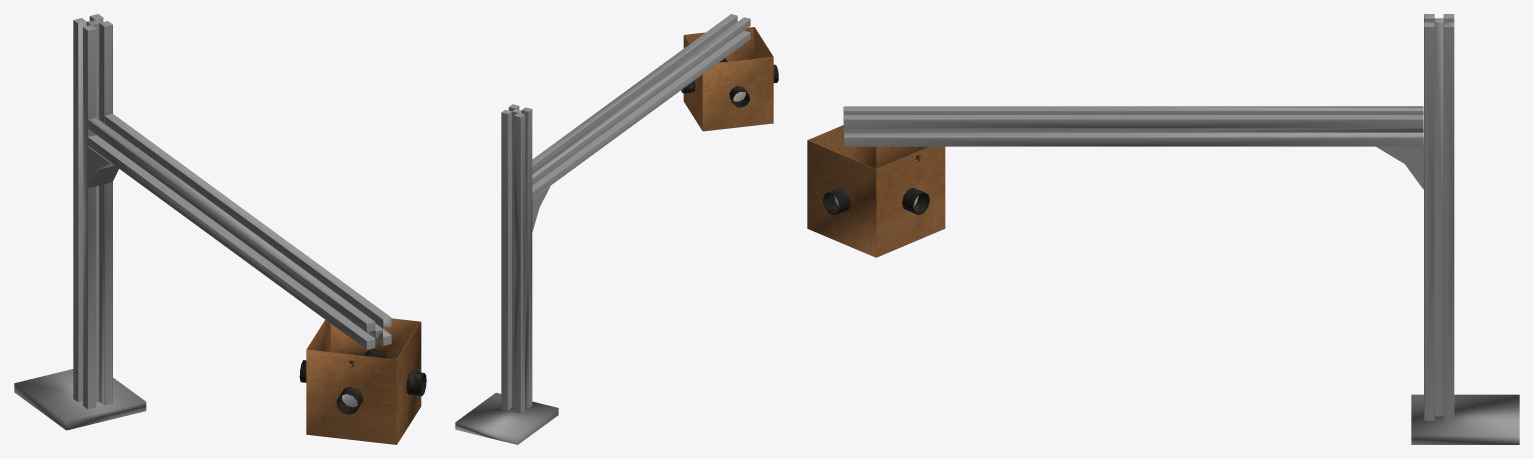
Rendered from trafficlight.dae.
3 views of the same model, side by side, from view 1: azimuth 30°, elevation 25°; view 2: azimuth 150°, elevation 25°; view 3: azimuth 270°, elevation 25° (orthographic). The views are drawn at different scales.
Parts seen in each view (by area): view 1: HorizontalBeam_Beam_001, VerticalBeam_Beam_000, Cube_001, Bottom, Support, Cylinder_001, Cylinder_000; view 2: VerticalBeam_Beam_000, HorizontalBeam_Beam_001, Cube_001, Bottom; view 3: HorizontalBeam_Beam_001, Cube_001, VerticalBeam_Beam_000, Bottom, Support.
Boxes of the visible parts, left/top/right/bottom form: HorizontalBeam_Beam_001: left=88, top=113, right=391, bottom=349; VerticalBeam_Beam_000: left=73, top=14, right=112, bottom=409; Cube_001: left=306, top=318, right=421, bottom=444; Bottom: left=14, top=369, right=146, bottom=430; Support: left=87, top=146, right=118, bottom=187; Cylinder_001: left=406, top=371, right=426, bottom=395; Cylinder_000: left=336, top=386, right=362, bottom=414; VerticalBeam_Beam_000: left=501, top=104, right=532, bottom=413; HorizontalBeam_Beam_001: left=532, top=14, right=750, bottom=198; Cube_001: left=683, top=27, right=773, bottom=131; Bottom: left=455, top=392, right=558, bottom=444; HorizontalBeam_Beam_001: left=843, top=106, right=1423, bottom=146; Cube_001: left=807, top=125, right=945, bottom=257; VerticalBeam_Beam_000: left=1424, top=14, right=1454, bottom=420; Bottom: left=1411, top=394, right=1519, bottom=444; Support: left=1376, top=136, right=1423, bottom=189.
Bounding box in the file's own units: 0.113 × 0.5834 × 0.3655.
Materials: 3 (2 with a texture image).
